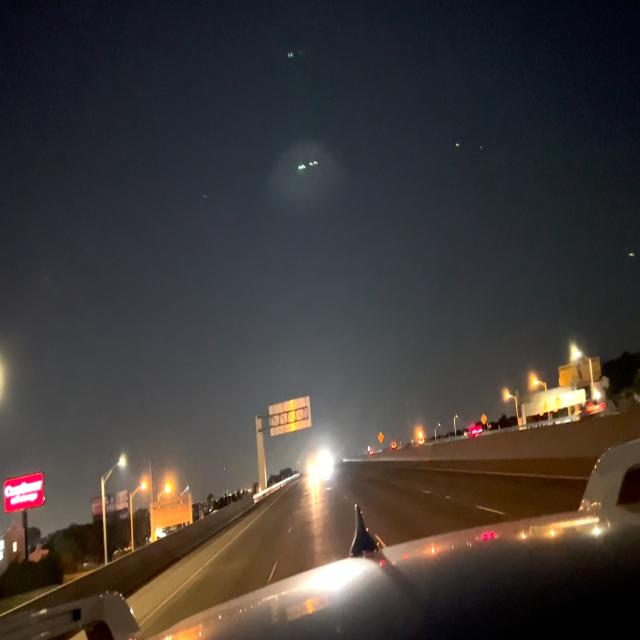back-of-sign: (267, 396, 313, 439)
